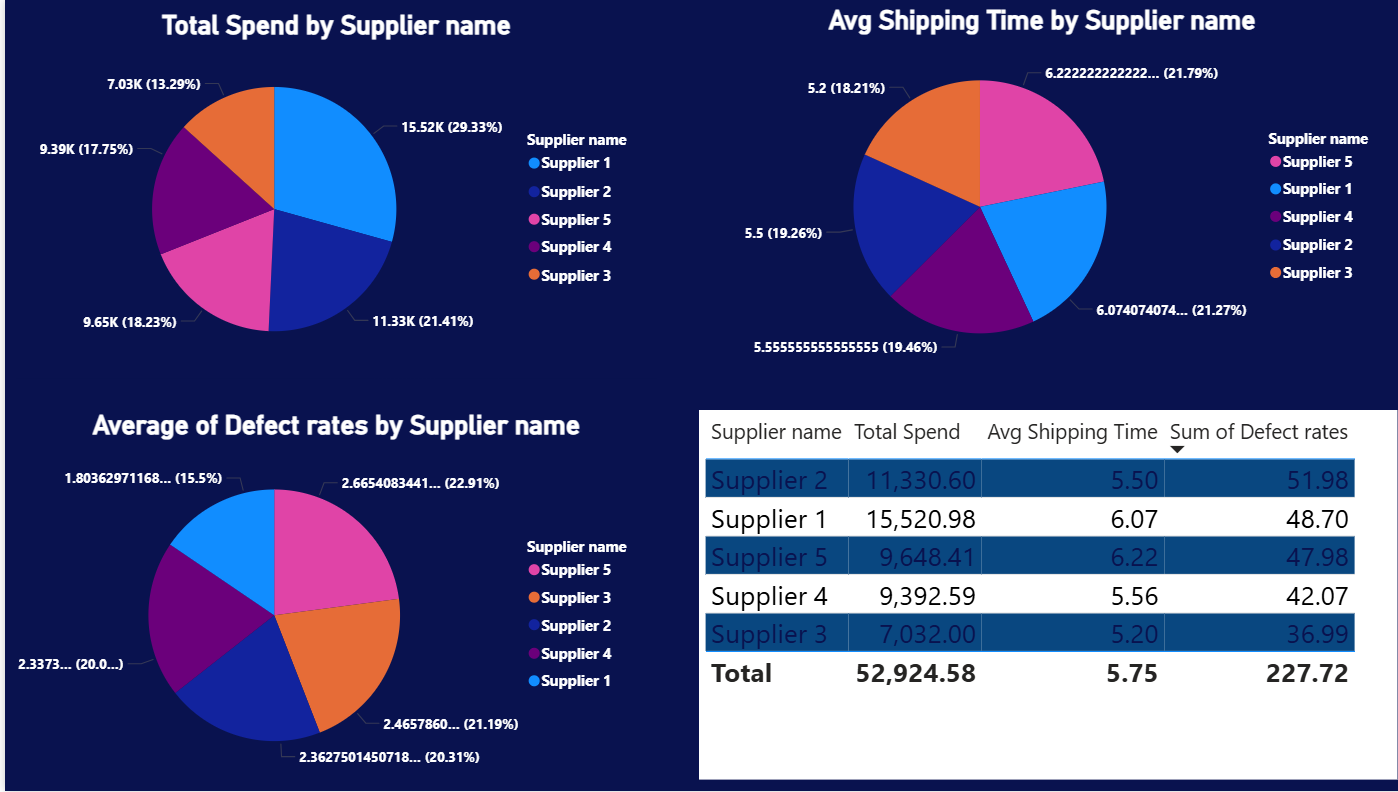

The page's visual inventory and layout, read from the dashboard file:
{"tool":"powerbi","page":{"name":"Page 2","canvas":[1280,720],"ordinal":1},"visuals":[{"type":"pieChart","fields":{"Category":["supply_chain_data.Supplier name"],"Y":["supply_chain_data.Total Spend"]},"box":[10,10,582.5,335],"z":0},{"type":"pieChart","fields":{"Category":["supply_chain_data.Supplier name"],"Y":["supply_chain_data.Avg Shipping Time"]},"box":[618.8,5,647.5,340],"z":1000},{"type":"pieChart","fields":{"Category":["supply_chain_data.Supplier name"],"Y":["Avg(supply_chain_data.Defect rates)"]},"box":[10,373.8,582.5,346.2],"z":2000},{"type":"tableEx","fields":{"Values":["supply_chain_data.Supplier name","supply_chain_data.Total Spend","supply_chain_data.Avg Shipping Time","Sum(supply_chain_data.Defect rates)"]},"box":[631.2,373.8,635,336.2],"z":3000}]}

Visuals, with their boxes in screenshot pixels (x1, y1, x2, y2), scaled from the page's 1280x720 canvas onto the 1398x792 screenshot:
pieChart - supply_chain_data.Supplier name x supply_chain_data.Total Spend: 11/11/647/380
pieChart - supply_chain_data.Supplier name x supply_chain_data.Avg Shipping Time: 676/6/1383/380
pieChart - supply_chain_data.Supplier name x Avg(supply_chain_data.Defect rates): 11/411/647/791
tableEx - supply_chain_data.Supplier name x supply_chain_data.Total Spend: 689/411/1383/781
